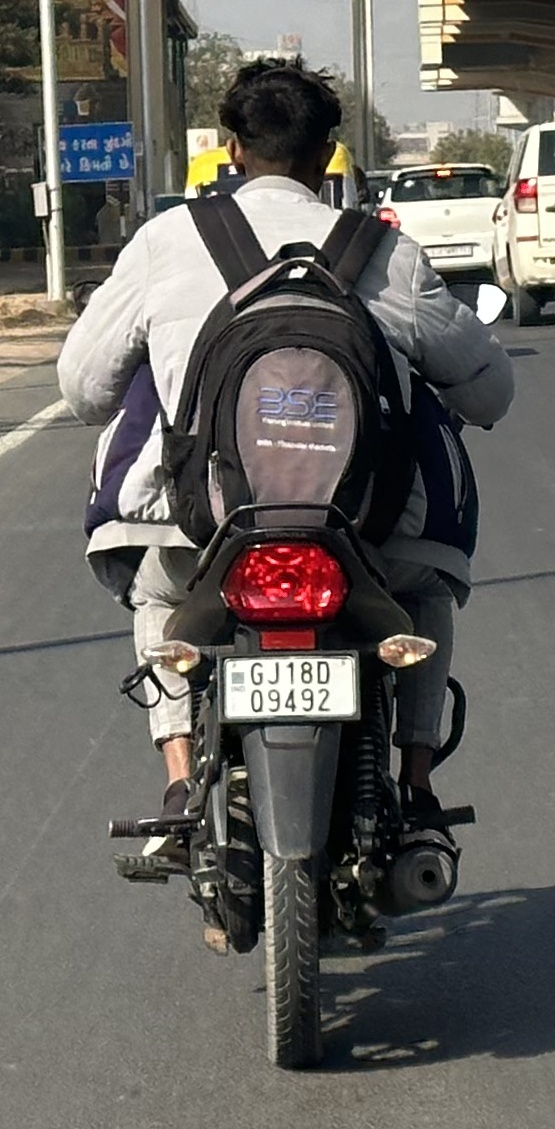BikeWithRider: (45, 46, 527, 1083)
NoHelmet: (201, 48, 355, 208)
